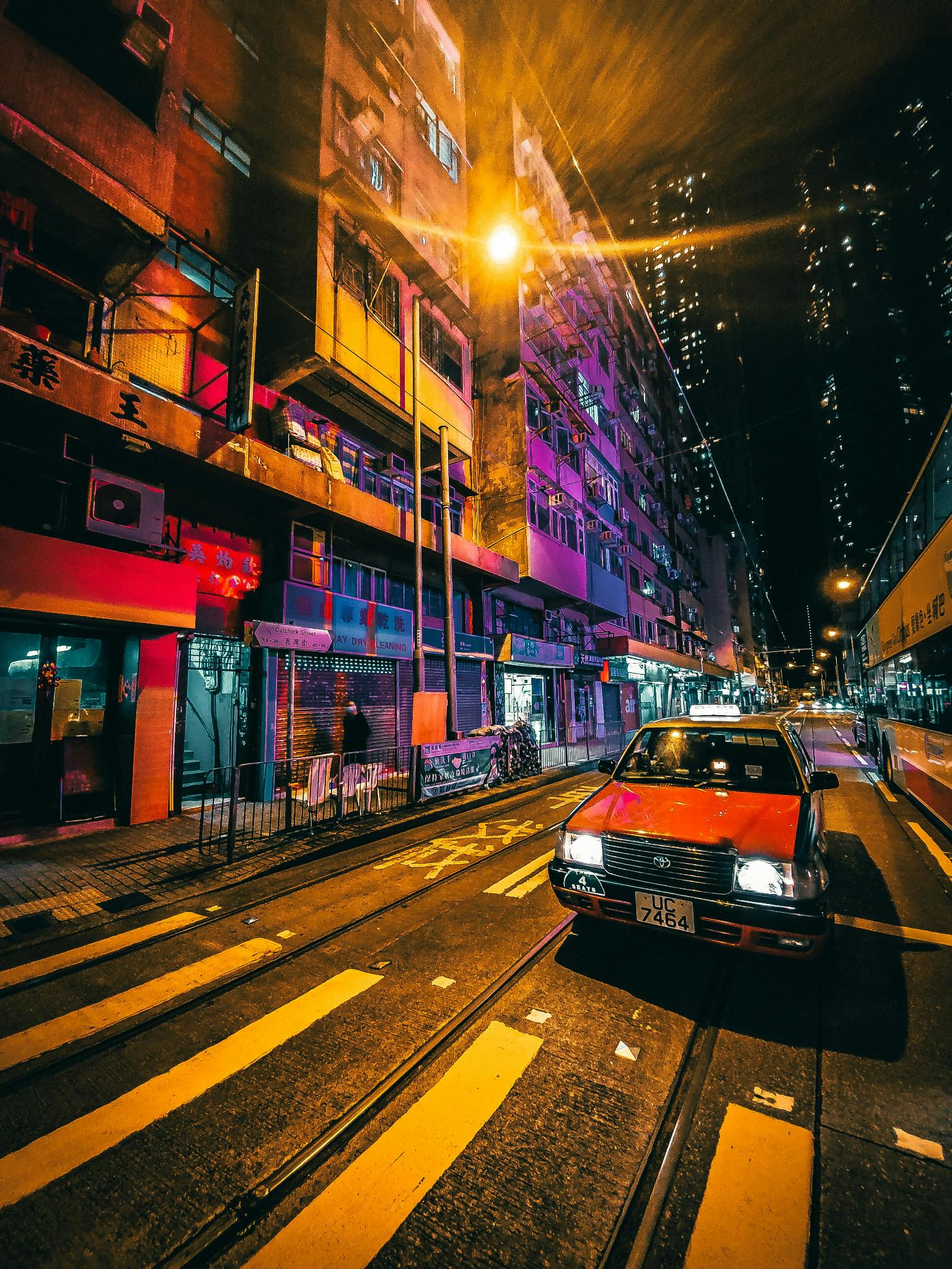car: (549, 711, 838, 946)
